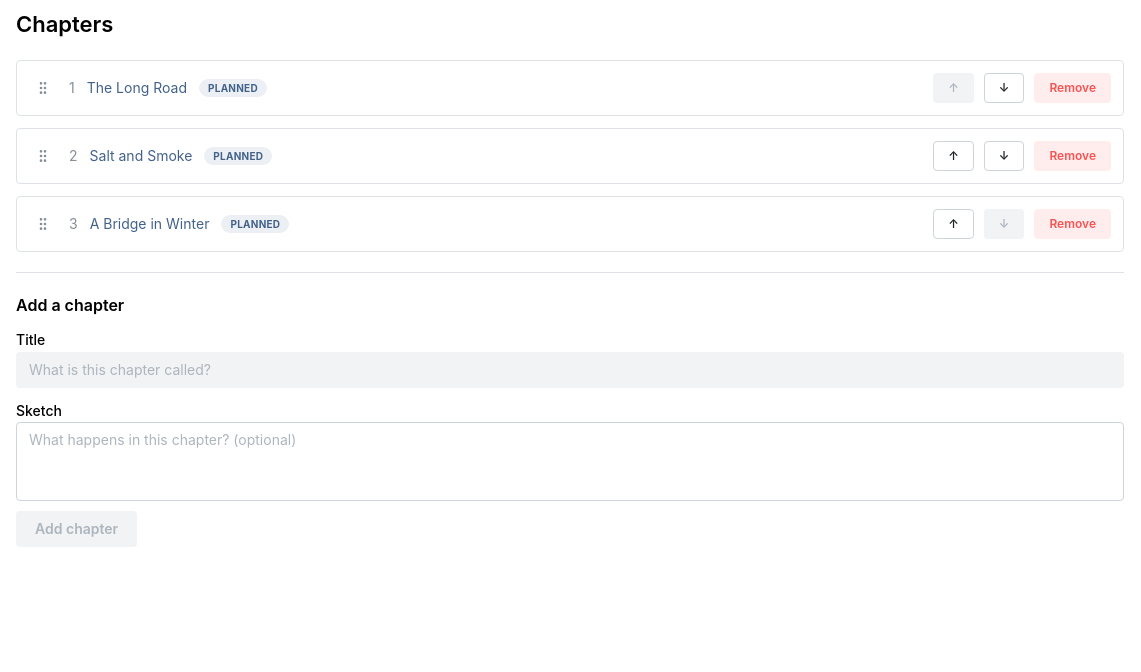
ChaptersPage — a refused reorder › DoD-5 (US-033.AC-2, server authority): the refusal is surfaced AND the rendered order returns to the SERVER's
Click the button "↓" in the row of "The Long Road": click(1004, 88) [984,73,1024,103]
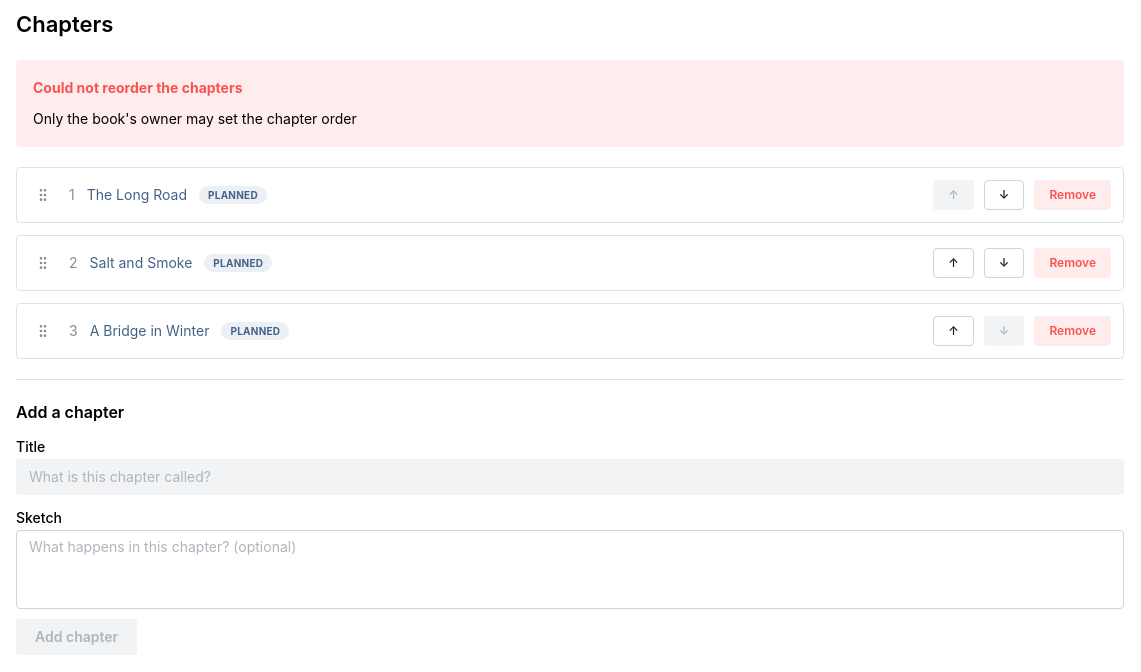
expect the text "The Long Road" is shown: met, box [87,185,187,205]
expect the text "Only the book's owner may set the chapter order" is shown: met, box [33,110,357,128]
